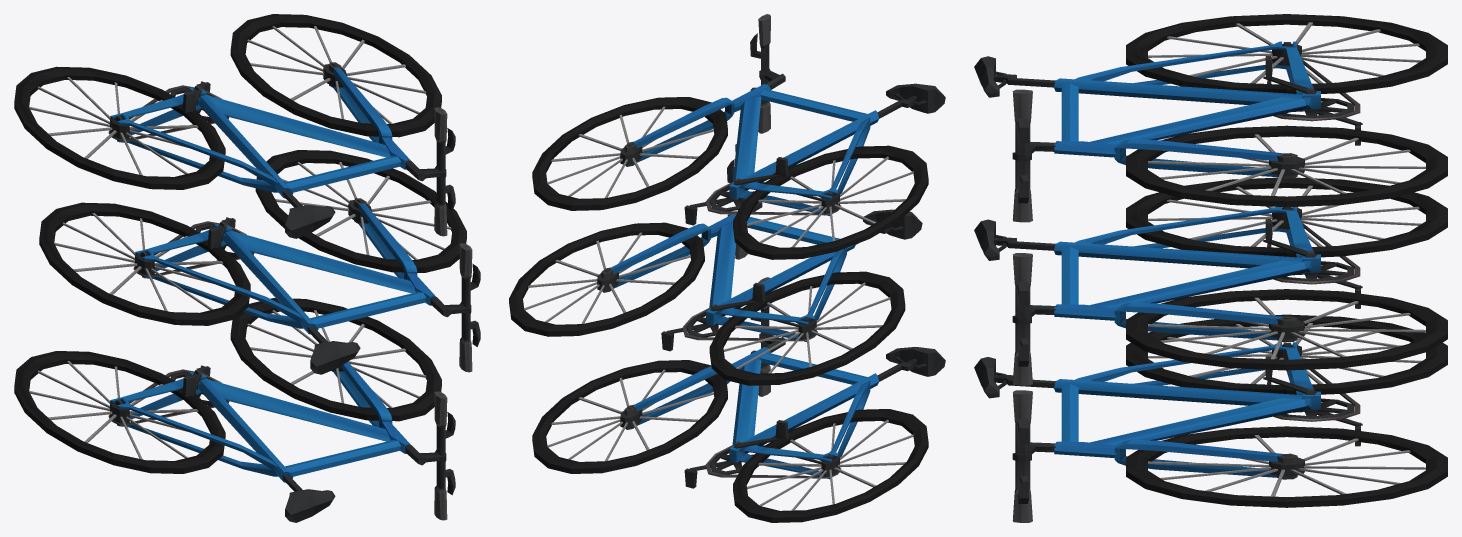
The model's file is bicycles.glb.
The picture shows the model from 3 angles, left to right: view 1: azimuth 30°, elevation 25°; view 2: azimuth 150°, elevation 25°; view 3: azimuth 270°, elevation 25°; orthographic projection. The views are drawn at different scales.
Parts seen in each view (by area): view 1: vehicle/bicycles; view 2: vehicle/bicycles; view 3: vehicle/bicycles.
Part boxes in pixels (left/top/right/bottom): vehicle/bicycles: left=14, top=14, right=480, bottom=522; vehicle/bicycles: left=509, top=14, right=945, bottom=522; vehicle/bicycles: left=974, top=14, right=1447, bottom=522.
Bounding box in the file's own units: 1 × 1 × 1.
